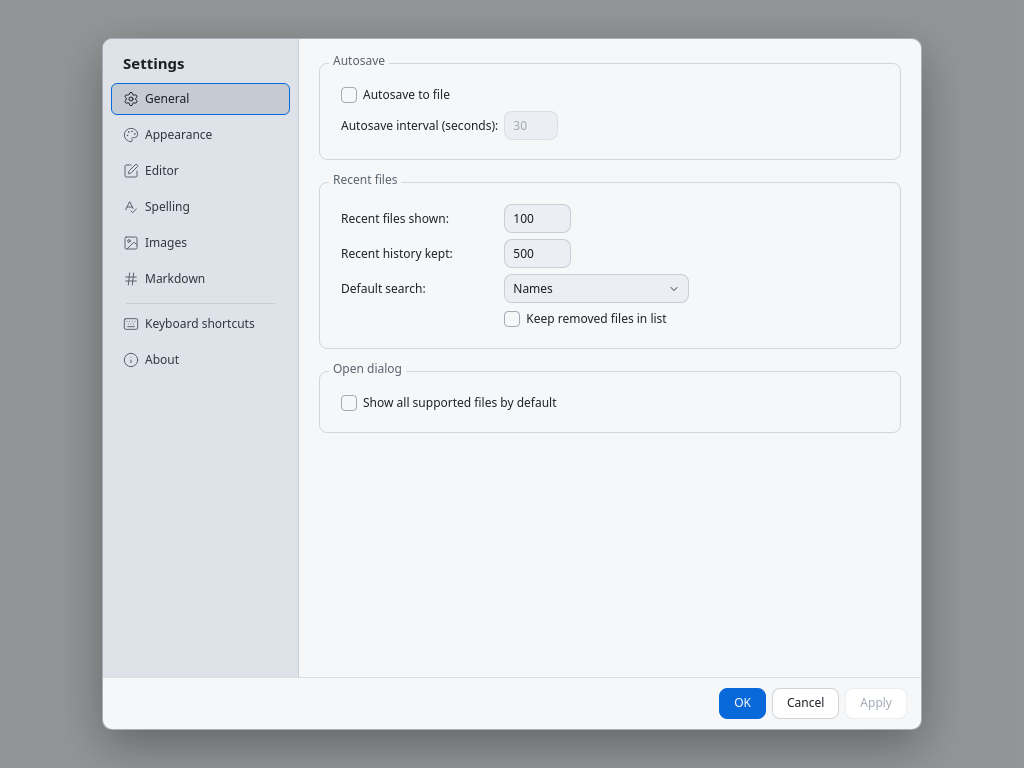
Test case: SettingsDialogView pages › shows a setting as saved where the save changed it, such as fewer recent files shown
Replace the text in the number field named "recentFilesMaxRetained" with "10" at (538, 254), box [504, 239, 572, 268]
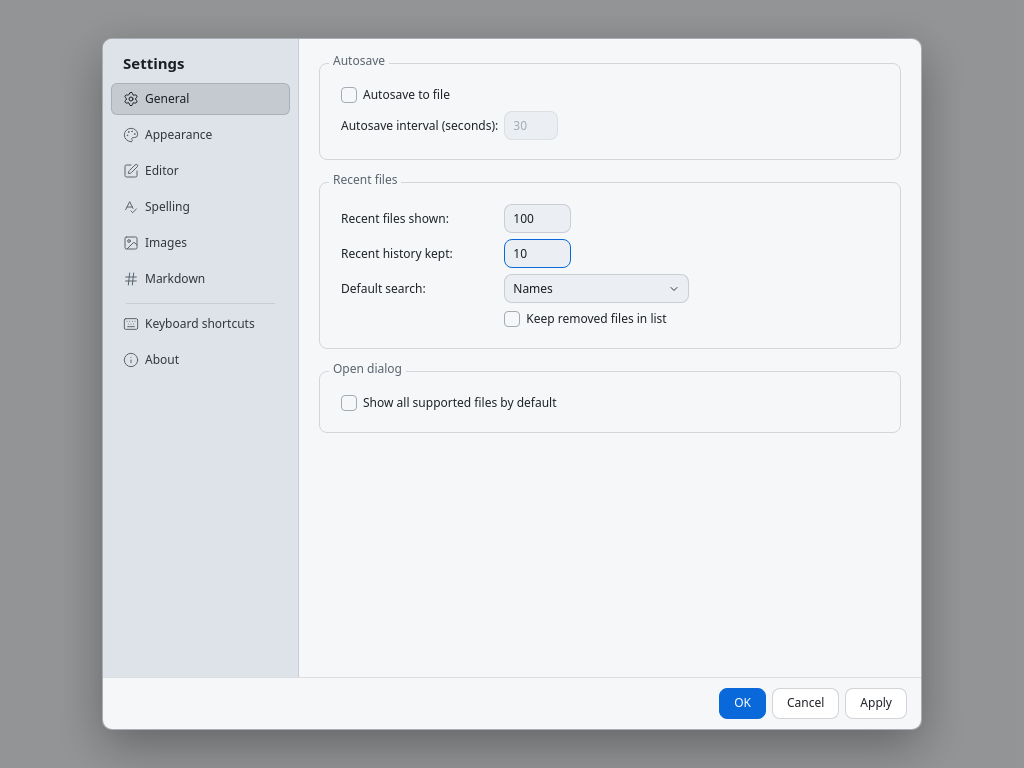
Click the button "Apply".
click(876, 703)  # box [845, 688, 907, 719]
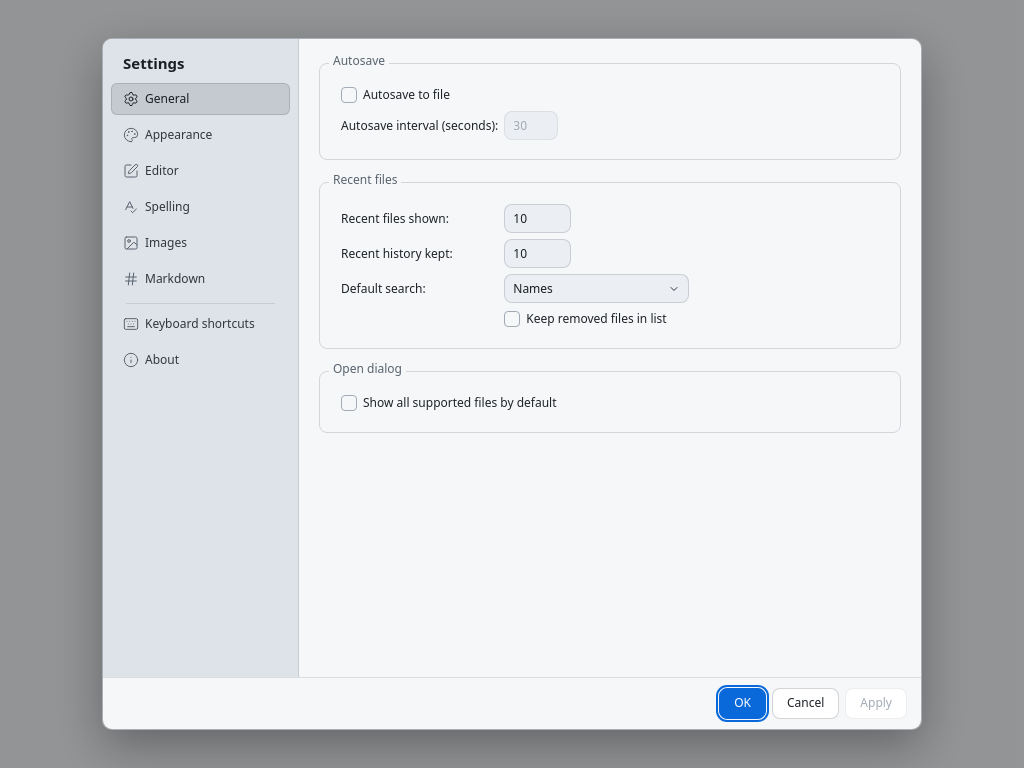
Check: the button "Apply" is disabled, box [845, 688, 907, 719]
Check: the number field named "recentFilesVisibleCount" holds "10", box [504, 204, 572, 233]
